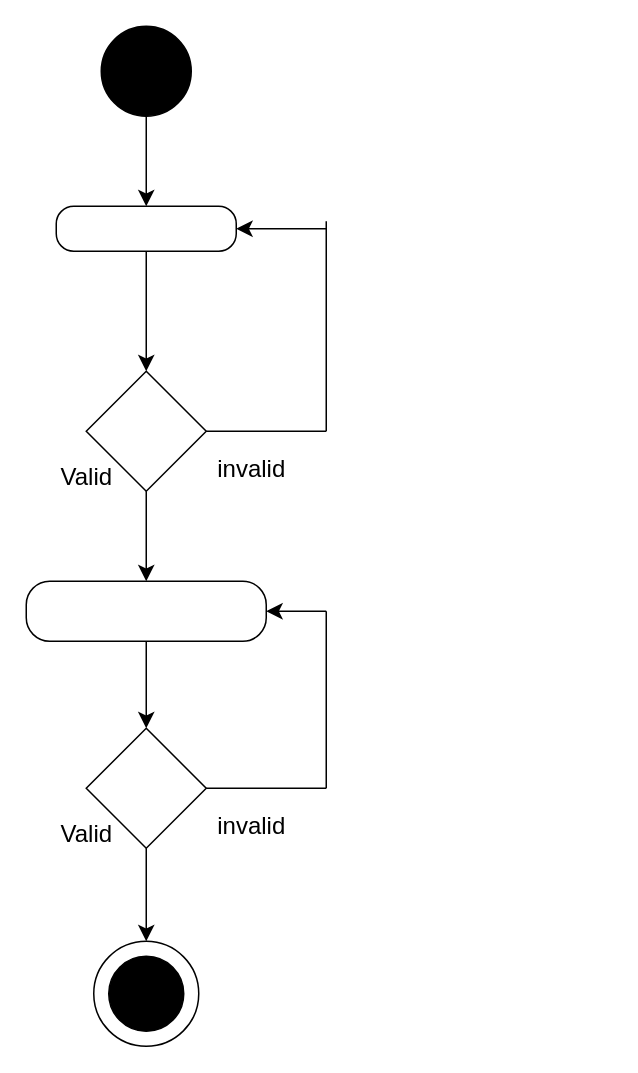
Some shapes in this 638 by 1073 pixel diagram are drawn without their labels. Each missing label, with the centre of its shape:
enter email: [145,228]
enter password: [145,610]
